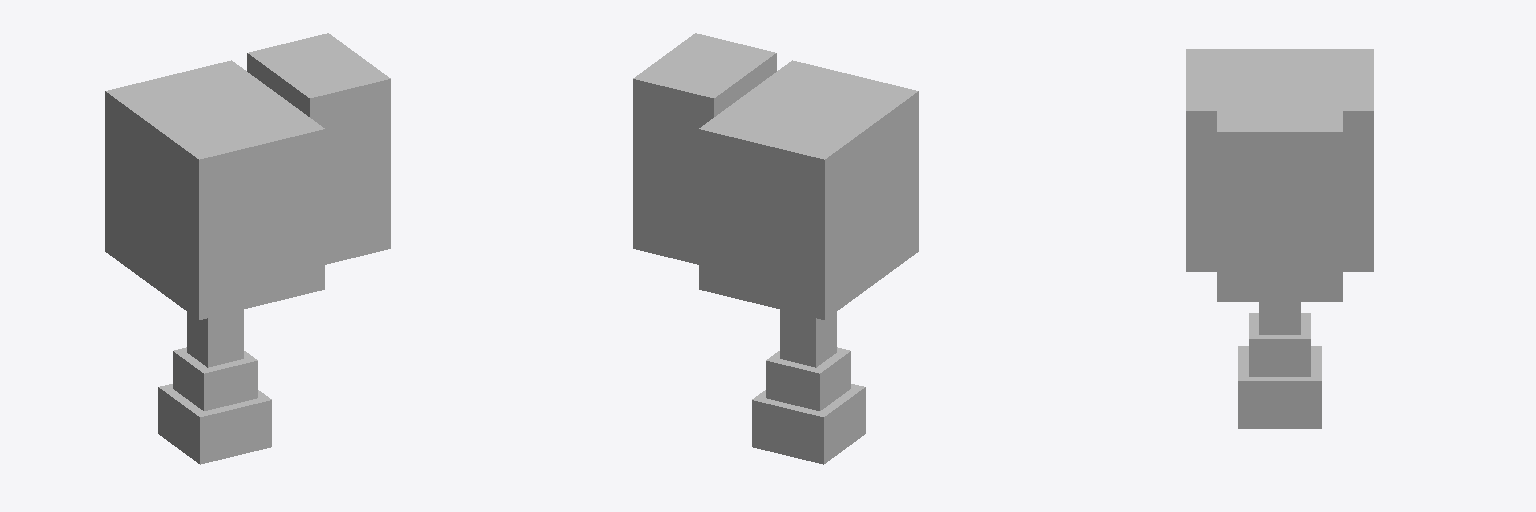
The model's file is tree_4.obj.
3 renders of one model, left to right at view 1: azimuth 30°, elevation 25°; view 2: azimuth 150°, elevation 25°; view 3: azimuth 270°, elevation 25°, orthographic.
Visible parts, largest first — view 1: object 1; view 2: object 1; view 3: object 1.
Part boxes in pixels (left/top/right/bottom): object 1: left=105, top=33, right=390, bottom=464; object 1: left=633, top=33, right=918, bottom=464; object 1: left=1186, top=49, right=1373, bottom=428.
Bounding box in the file's own units: 2.3 × 3.7 × 1.8.